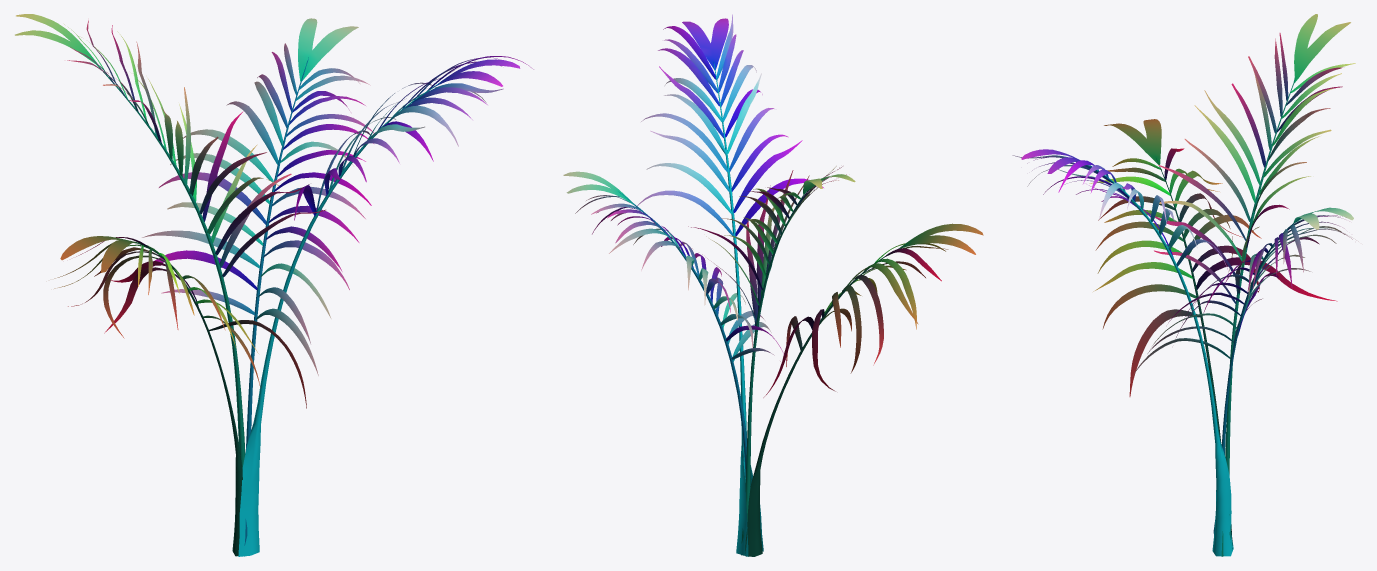
Rendered from ukgkcilia_VarD_LOD0.fbx.
The picture shows the model from 3 angles, left to right: view 1: azimuth 30°, elevation 25°; view 2: azimuth 150°, elevation 25°; view 3: azimuth 270°, elevation 25°; orthographic projection. The views are drawn at different scales.
Parts seen in each view (by area): view 1: _e2ka_VarD_LOD1; view 2: _e2ka_VarD_LOD1; view 3: _e2ka_VarD_LOD1.
Boxes of the visible parts, x1,y1,x2,y2 form: _e2ka_VarD_LOD1: [15, 14, 533, 556]; _e2ka_VarD_LOD1: [563, 14, 983, 556]; _e2ka_VarD_LOD1: [1012, 14, 1358, 556].
Bounding box in the file's own units: 91.37 × 108 × 74.18.
